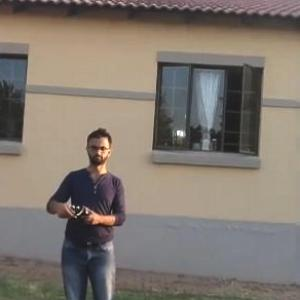follow: (40, 119, 133, 299)
